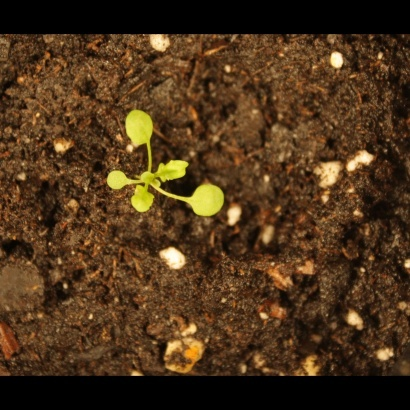leaf: (186, 179, 233, 223), (124, 104, 160, 149), (128, 183, 161, 217), (155, 157, 190, 185), (103, 164, 130, 193)
